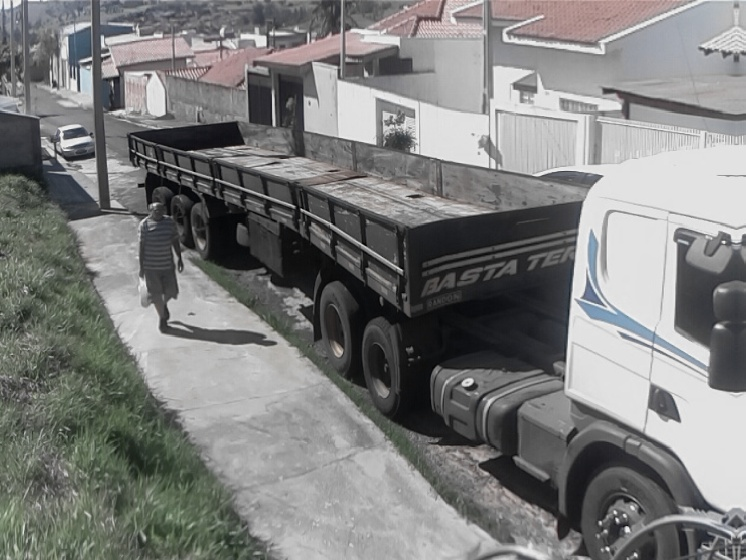person: (137, 200, 185, 337)
